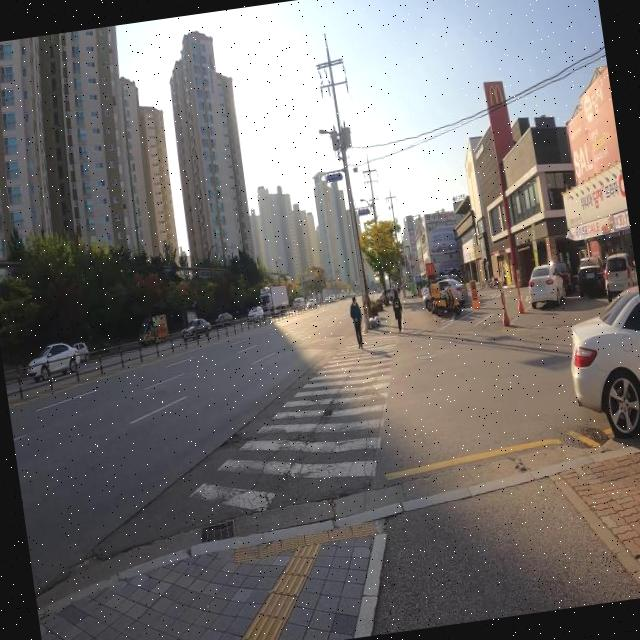crosswalk: (186, 334, 400, 516)
